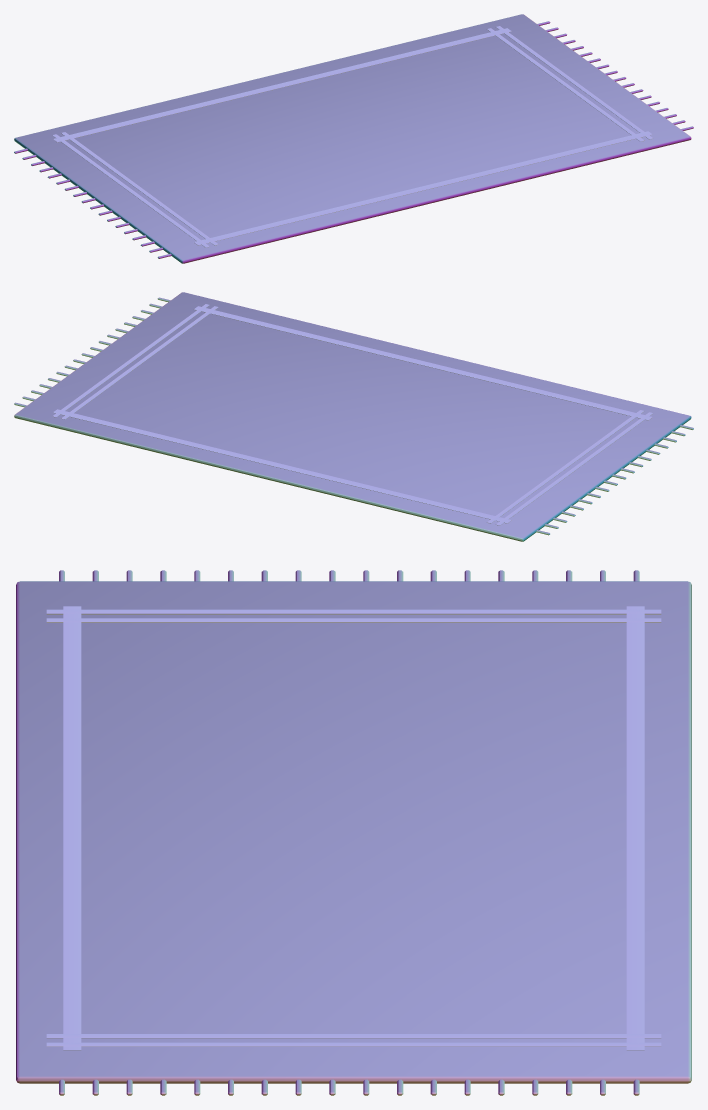
The model's file is env_dress_kitchen_rug.glb.
The picture shows the model from 3 angles, top to bottom: view 1: azimuth 30°, elevation 25°; view 2: azimuth 150°, elevation 25°; view 3: azimuth 270°, elevation 25°; orthographic projection. The views are drawn at different scales.
Parts seen in each view (by area): view 1: env_dress_kitchen_rug_mesh; view 2: env_dress_kitchen_rug_mesh; view 3: env_dress_kitchen_rug_mesh.
Part boxes in pixels (left/top/right/bottom): env_dress_kitchen_rug_mesh: left=14, top=14, right=693, bottom=263; env_dress_kitchen_rug_mesh: left=14, top=292, right=693, bottom=541; env_dress_kitchen_rug_mesh: left=16, top=570, right=691, bottom=1095.
Bounding box in the file's own units: 2.41 × 0.0175 × 1.32.
